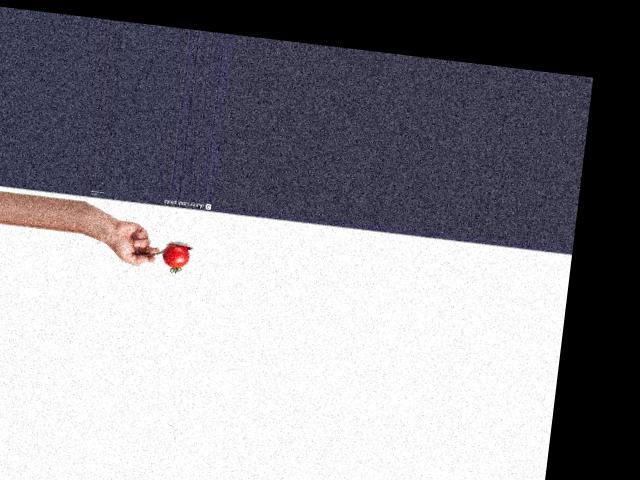tomato: (160, 243, 189, 269)
